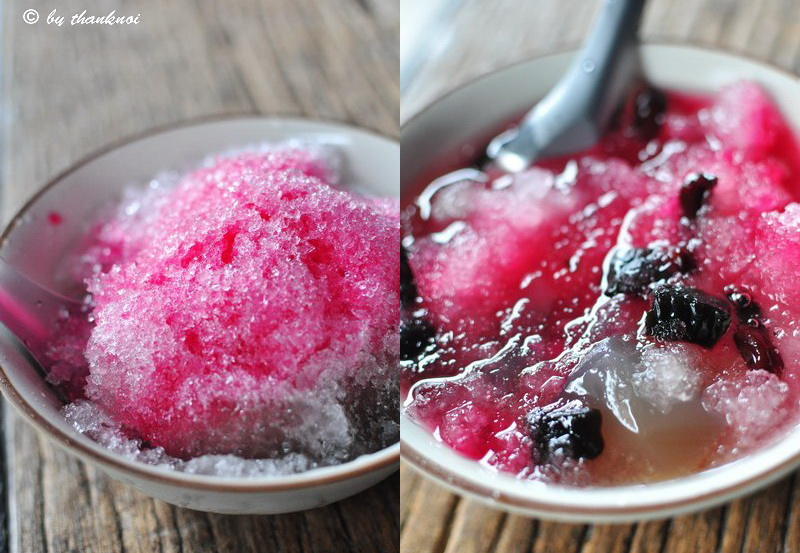O-eo: (402, 39, 800, 497), (1, 103, 417, 533)
